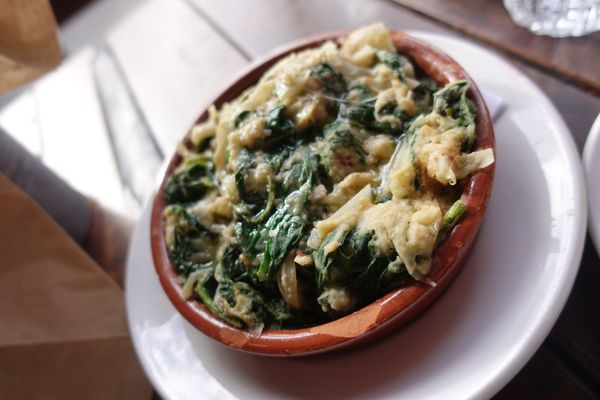pizza: (502, 0, 600, 37)
sushi: (147, 20, 497, 357), (582, 107, 600, 264)
